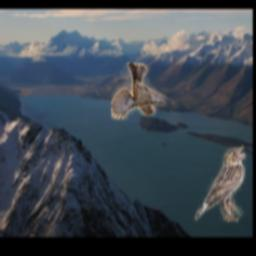Sparrow: (194, 145, 247, 222), (112, 62, 180, 120)
